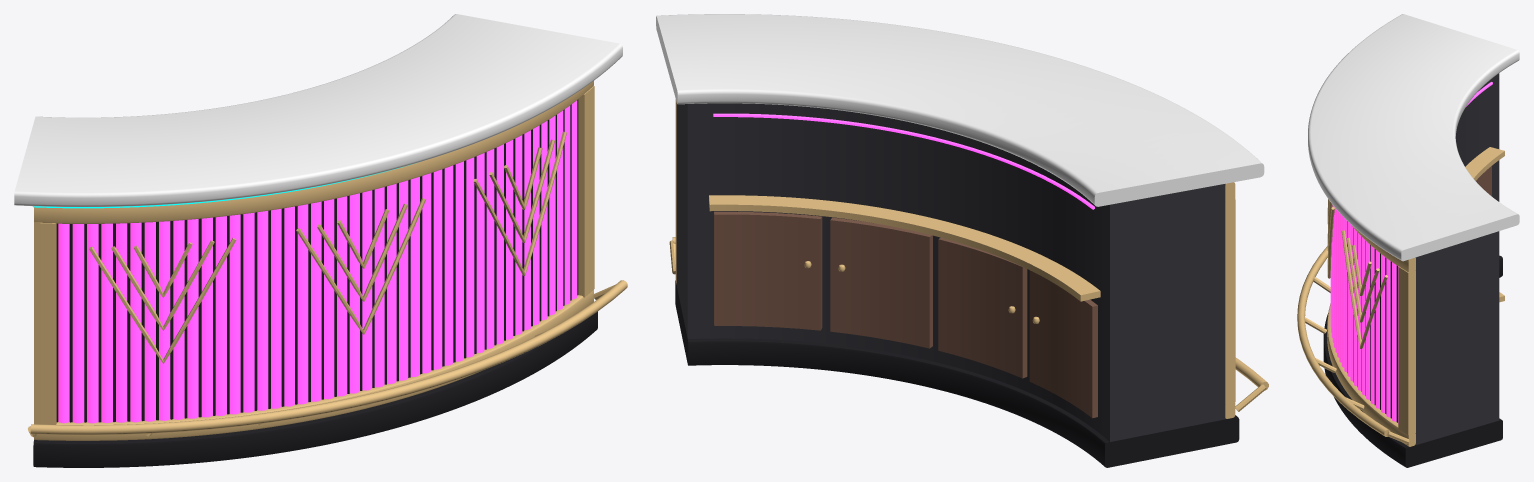
The model's file is KIT_Balcao_Bar.glb.
The picture shows the model from 3 angles, left to right: view 1: azimuth 30°, elevation 25°; view 2: azimuth 150°, elevation 25°; view 3: azimuth 270°, elevation 25°; orthographic projection. The views are drawn at different scales.
Visible parts, largest first — view 1: KIT_Balcao_Bar; view 2: KIT_Balcao_Bar; view 3: KIT_Balcao_Bar.
Boxes of the visible parts, x1,y1,x2,y2 form: KIT_Balcao_Bar: [14, 14, 627, 467]; KIT_Balcao_Bar: [656, 14, 1268, 467]; KIT_Balcao_Bar: [1297, 14, 1519, 467].
Bounding box in the file's own units: 2.51 × 1.12 × 0.9928.
